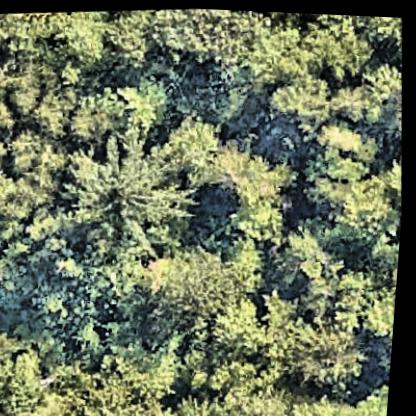tree-top: (60, 131, 206, 266), (130, 239, 251, 336), (63, 72, 171, 153), (230, 12, 322, 91), (213, 147, 296, 233), (317, 167, 404, 245), (286, 315, 372, 390), (0, 126, 71, 212), (0, 51, 81, 126), (154, 105, 228, 186), (286, 10, 370, 81), (334, 251, 402, 337), (149, 6, 241, 67), (117, 334, 192, 407), (263, 69, 337, 141), (269, 216, 345, 279), (215, 361, 302, 416), (93, 6, 160, 73), (59, 144, 117, 221), (0, 340, 56, 416), (360, 53, 407, 127), (296, 383, 394, 416), (313, 115, 370, 163), (59, 9, 106, 67), (294, 264, 344, 317), (373, 69, 408, 144), (322, 77, 372, 128), (380, 142, 409, 214), (348, 12, 403, 47), (172, 386, 233, 416), (0, 12, 37, 60), (0, 60, 16, 146), (0, 233, 13, 307), (0, 133, 9, 184)
